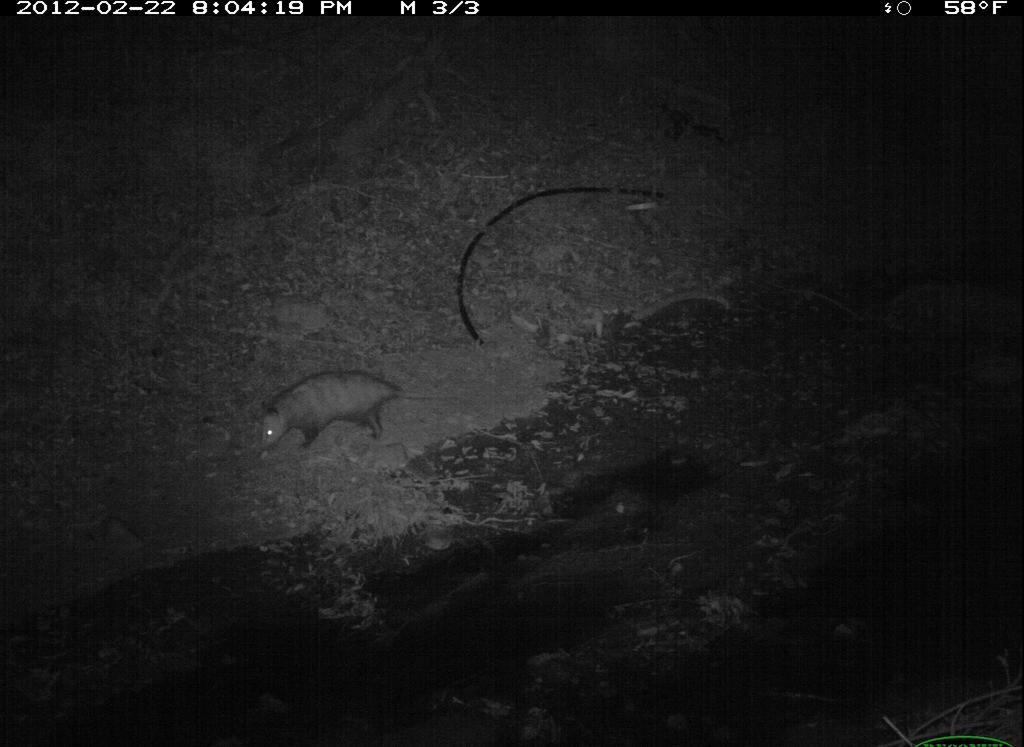opossum: (253, 369, 478, 460)
